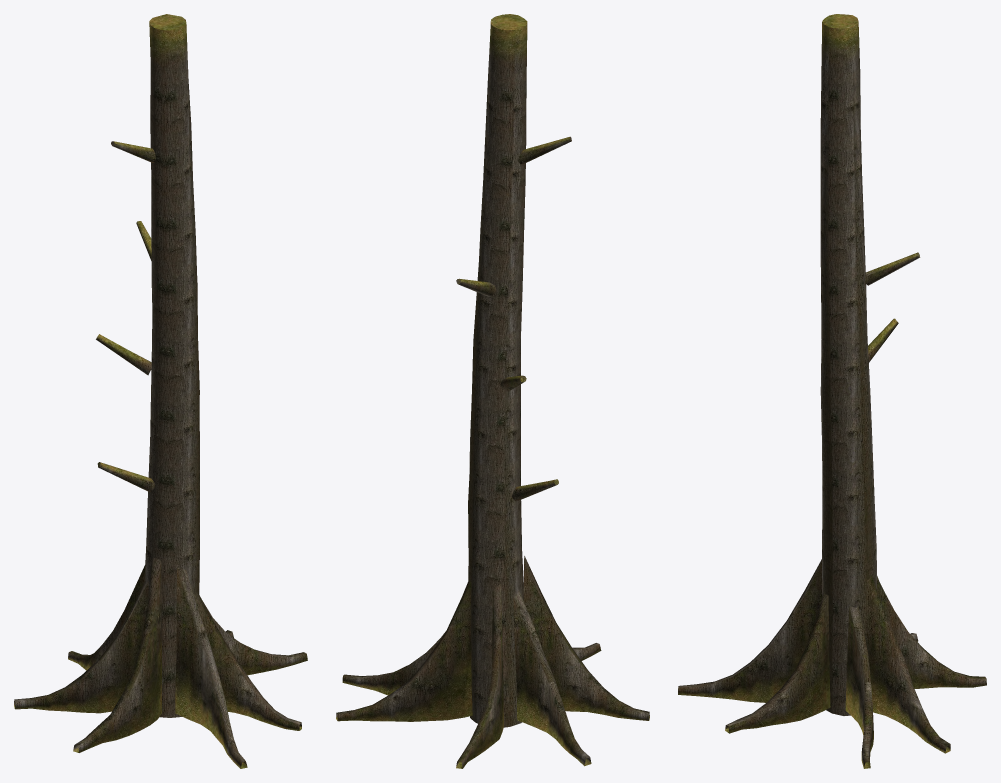
The model's file is buttress_tree.glb.
3 renders of one model, left to right at view 1: azimuth 30°, elevation 25°; view 2: azimuth 150°, elevation 25°; view 3: azimuth 270°, elevation 25°, orthographic.
Visible parts, largest first — view 1: buttress_tree; view 2: buttress_tree; view 3: buttress_tree.
Part boxes in pixels (bbox=[...]): buttress_tree: bbox=[14, 14, 307, 768]; buttress_tree: bbox=[336, 14, 649, 768]; buttress_tree: bbox=[678, 14, 986, 768].
Bounding box in the file's own units: 12.49 × 30.57 × 12.57.
1 material, 1 textured.
